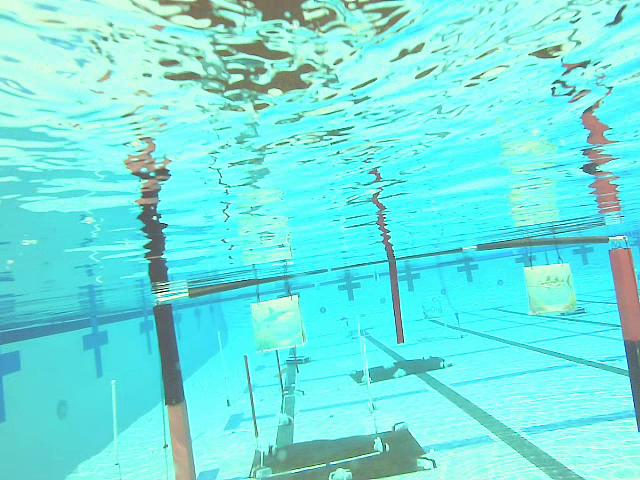black_poster: (242, 355, 261, 440), (274, 351, 290, 408)
divider: (388, 263, 406, 341)
left_gate_poster: (153, 304, 201, 479)
right_gate_poster: (606, 243, 639, 428)
shark: (246, 300, 305, 347)
swordfish: (522, 265, 578, 318)
